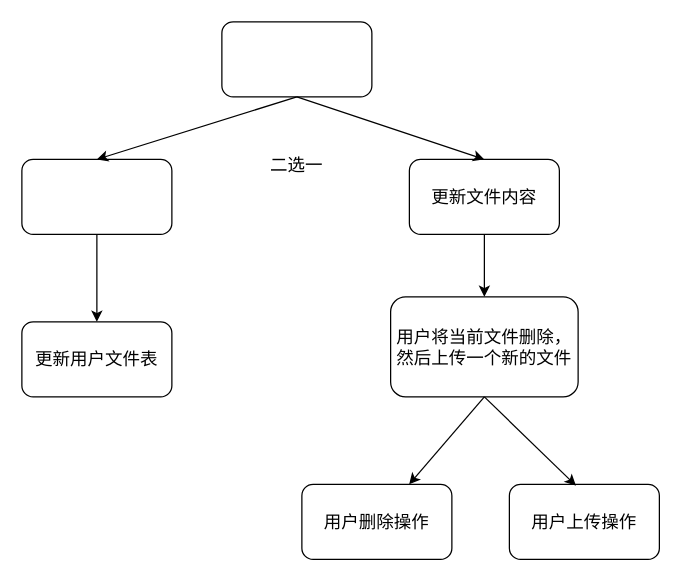
Some shapes in this 681 by 581 pixel diagram are drawn without their labels. The centre of each missing label's shape, as x and y in pixels:
更新文件: pixel 296 59
更新文件元信息: pixel 96 196
